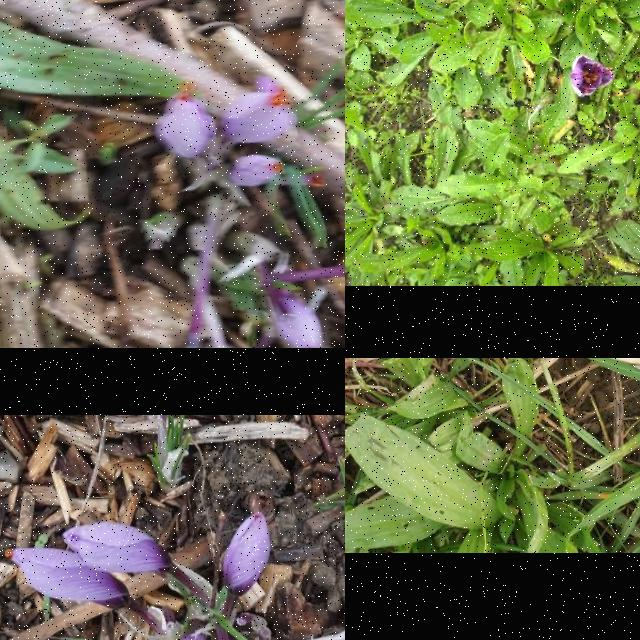flower: (4, 548, 130, 610), (63, 522, 177, 574), (222, 76, 298, 144), (155, 80, 217, 160), (220, 514, 270, 600), (273, 300, 323, 348), (570, 56, 616, 98), (228, 155, 286, 187)
